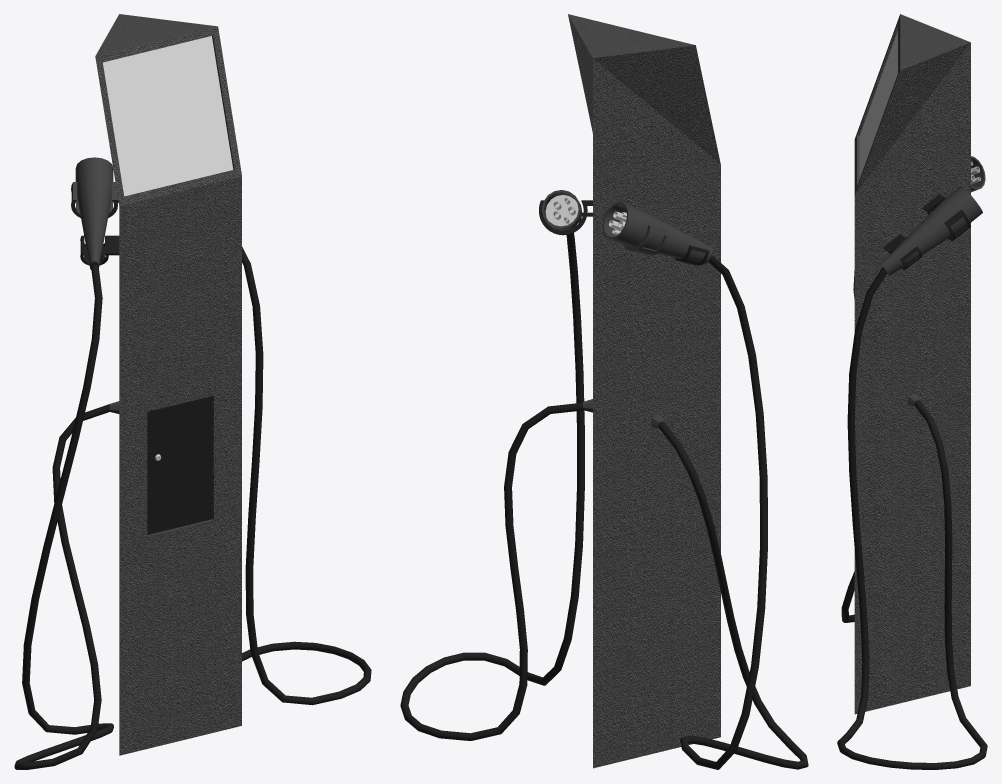
Rendered from E-Carus.fbx.
3 views of the same model, side by side, from view 1: azimuth 30°, elevation 25°; view 2: azimuth 150°, elevation 25°; view 3: azimuth 270°, elevation 25° (orthographic). The views are drawn at different scales.
Parts seen in each view (by area): view 1: Cylinder, BezierCurve, BezierCurve.001, Cylinder.008, Cylinder.012; view 2: Cylinder, BezierCurve.001, BezierCurve, Cylinder.008, Cylinder.013; view 3: Cylinder, BezierCurve.001, Cylinder.013, Cylinder.005, BezierCurve, Cylinder.008, Cylinder.004.
Boxes of the visible parts, <box> form: Cylinder: <box>95,14,241,755</box>; BezierCurve: <box>14,264,113,769</box>; BezierCurve.001: <box>242,246,371,705</box>; Cylinder.008: <box>75,157,113,269</box>; Cylinder.012: <box>80,235,119,265</box>; Cylinder: <box>568,14,720,768</box>; BezierCurve.001: <box>400,233,584,740</box>; BezierCurve: <box>658,255,808,769</box>; Cylinder.008: <box>602,202,712,264</box>; Cylinder.013: <box>542,190,582,230</box>; Cylinder: <box>854,14,970,714</box>; BezierCurve.001: <box>837,267,987,769</box>; Cylinder.013: <box>880,186,982,275</box>; Cylinder.005: <box>923,194,970,240</box>; BezierCurve: <box>841,270,854,622</box>; Cylinder.008: <box>971,156,985,192</box>; Cylinder.004: <box>883,234,922,270</box>.
Bounding box in the file's own units: 88.77 × 161 × 34.04.
